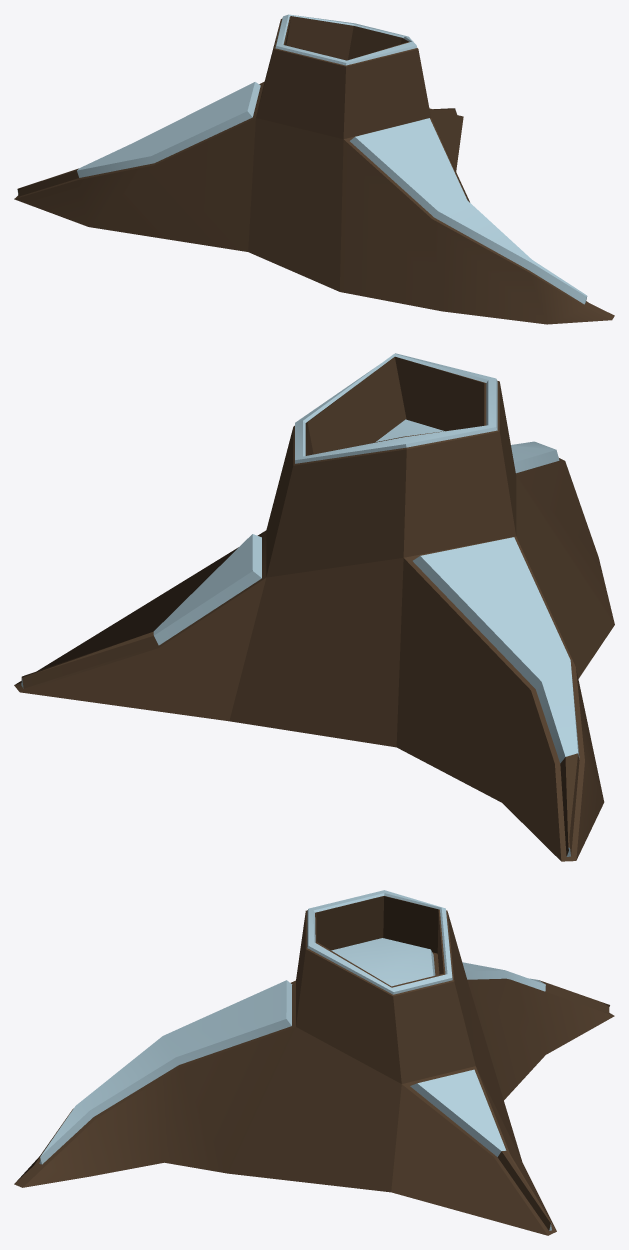
Rendered from Geo_Stump.fbx.
The picture shows the model from 3 angles, top to bottom: view 1: azimuth 30°, elevation 25°; view 2: azimuth 150°, elevation 25°; view 3: azimuth 270°, elevation 25°; orthographic projection. The views are drawn at different scales.
Parts seen in each view (by area): view 1: TreeStump_Mesh; view 2: TreeStump_Mesh; view 3: TreeStump_Mesh.
Part boxes in pixels (<box>): TreeStump_Mesh: <box>14,14,614,324</box>; TreeStump_Mesh: <box>14,353,614,861</box>; TreeStump_Mesh: <box>14,890,614,1235</box>.
Size of the model in its own units: 125 by 54.62 by 142.
